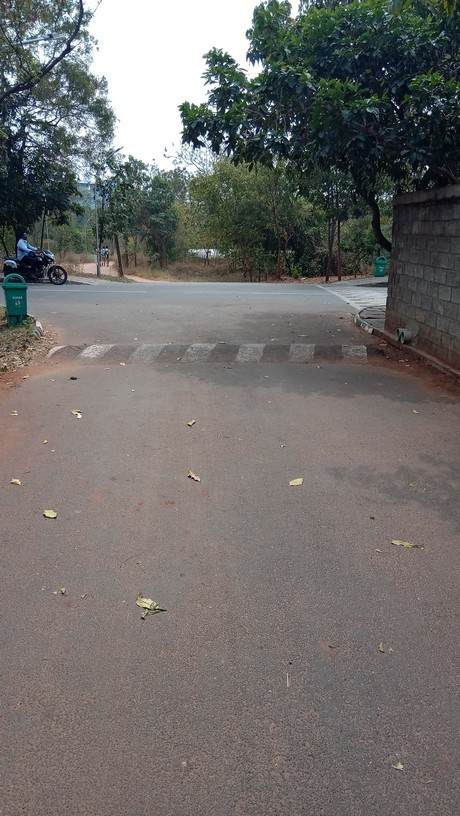bump: (28, 340, 398, 367)
